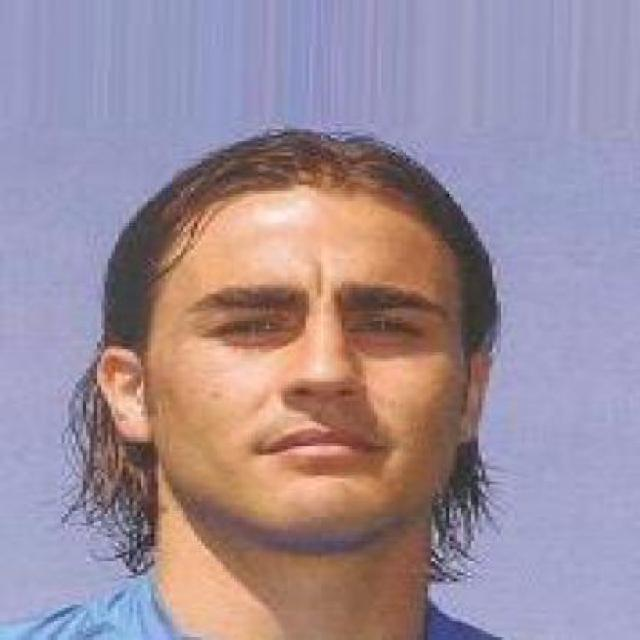closed-mouth: (250, 421, 392, 467)
